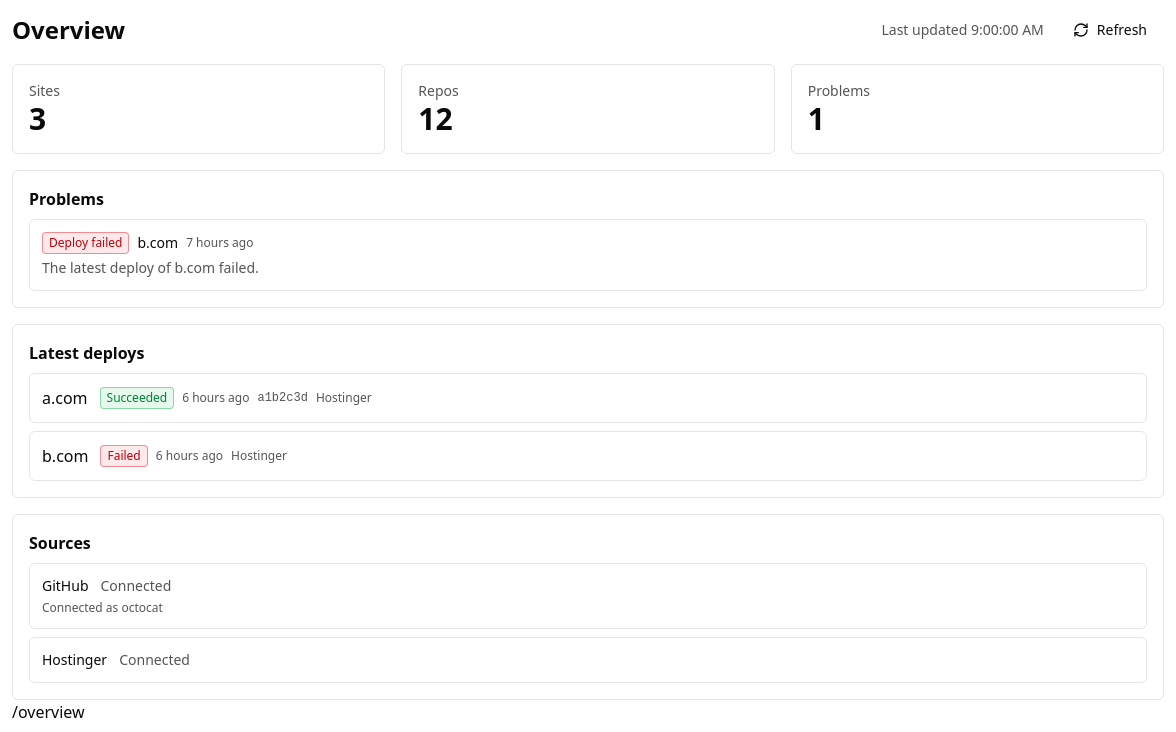
OverviewPage › overview-count-repos opens /repos
Click the link with test id "overview-count-repos". click: (438, 110)
box: [418,81,459,139]
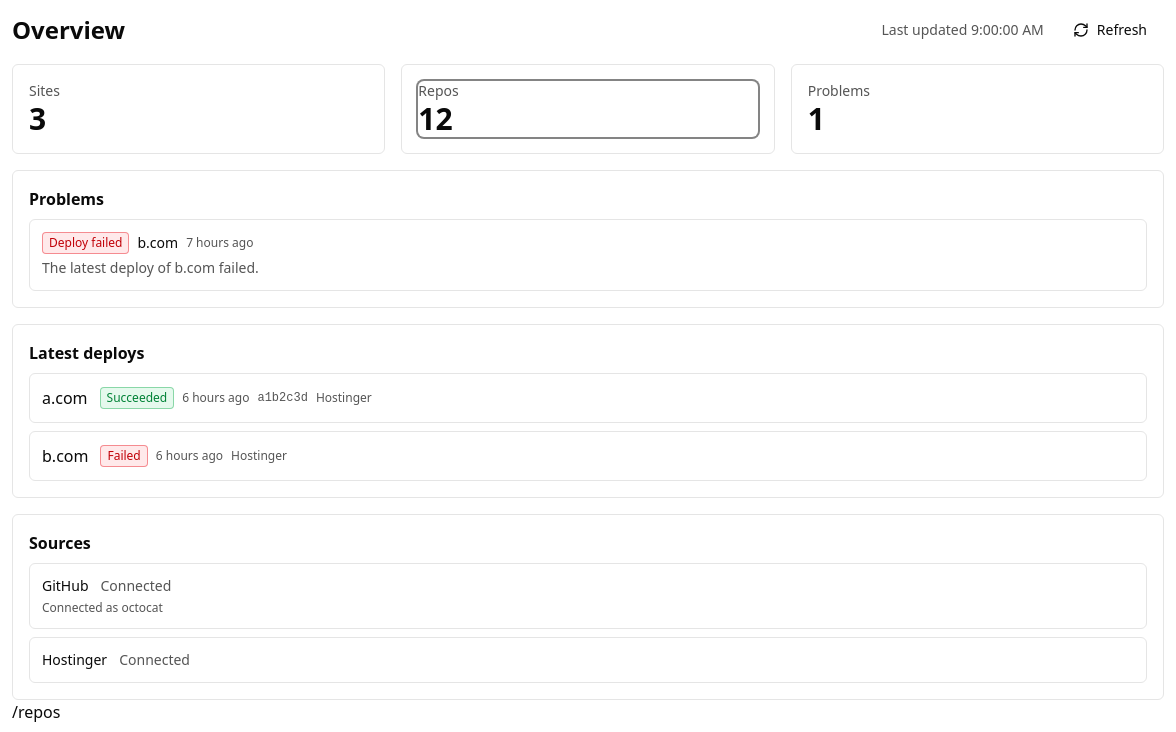
expect the text with test id "where" reads "/repos": met, box [12,701,60,723]
